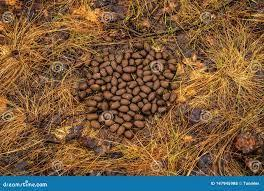Elk: (84, 43, 170, 133)
